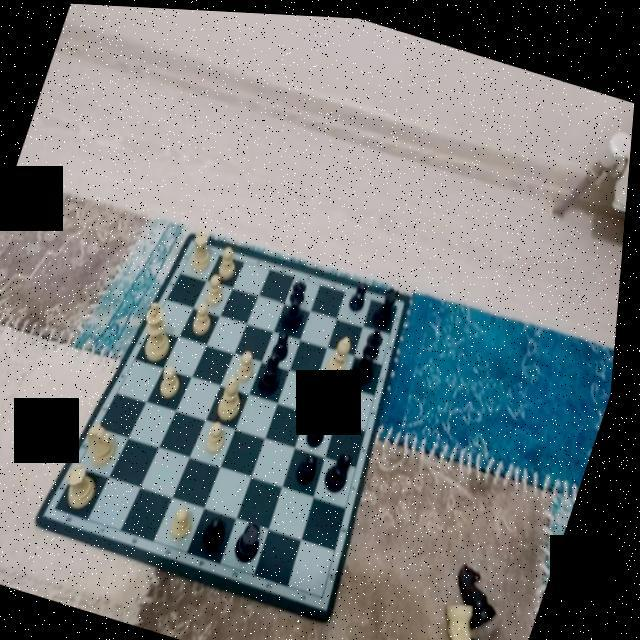chess-table-corners: (324, 584, 340, 601), (190, 236, 204, 252), (56, 499, 70, 515), (394, 295, 408, 309)
